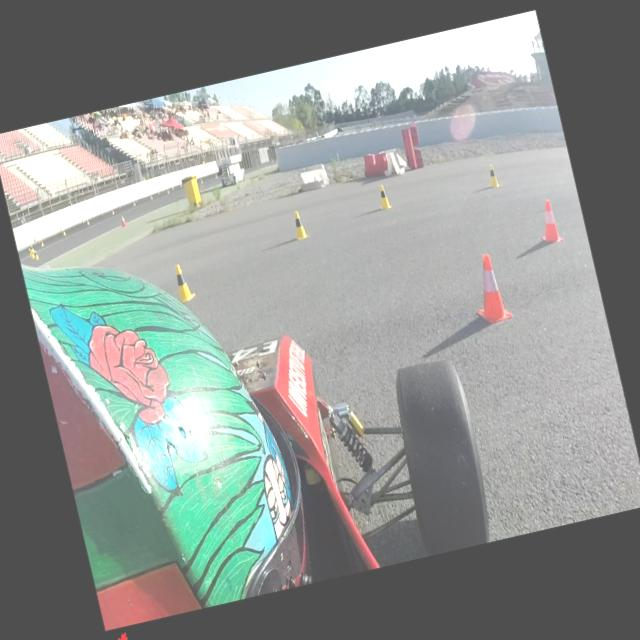orange_cone: (465, 250, 513, 325), (532, 197, 564, 246), (120, 213, 128, 226), (62, 228, 66, 235), (36, 237, 40, 244), (59, 226, 63, 232), (99, 209, 102, 216), (117, 202, 120, 208), (134, 196, 137, 202), (156, 189, 159, 195), (171, 184, 174, 190), (179, 182, 182, 188), (81, 218, 84, 222)
yellow_cone: (170, 261, 197, 303), (290, 209, 308, 240), (374, 182, 392, 210), (484, 162, 501, 189), (32, 248, 40, 260), (29, 248, 36, 258), (30, 243, 36, 252), (28, 246, 32, 256), (40, 238, 44, 246), (86, 218, 90, 225), (62, 228, 66, 235), (132, 200, 136, 207), (110, 208, 114, 214), (214, 172, 218, 178), (167, 188, 170, 194), (200, 177, 203, 183), (34, 236, 37, 241), (150, 194, 152, 200)
